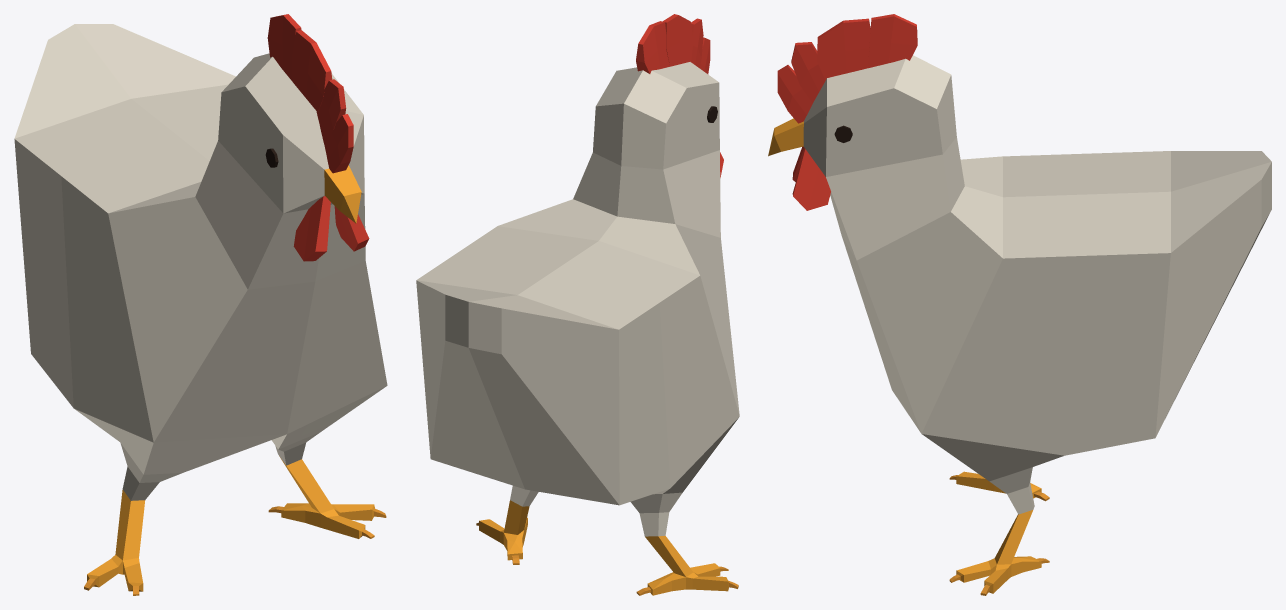
The model's file is animal_chicken_white_v01.glb.
The picture shows the model from 3 angles, left to right: view 1: azimuth 30°, elevation 25°; view 2: azimuth 150°, elevation 25°; view 3: azimuth 270°, elevation 25°; orthographic projection. The views are drawn at different scales.
Parts seen in each view (by area): view 1: chicken; view 2: chicken; view 3: chicken.
Part boxes in pixels (left/top/right/bottom): chicken: left=14, top=14, right=387, bottom=595; chicken: left=416, top=14, right=739, bottom=595; chicken: left=768, top=14, right=1271, bottom=595.
Size of the model in its own units: 0.2298 by 0.42 by 0.3718.
